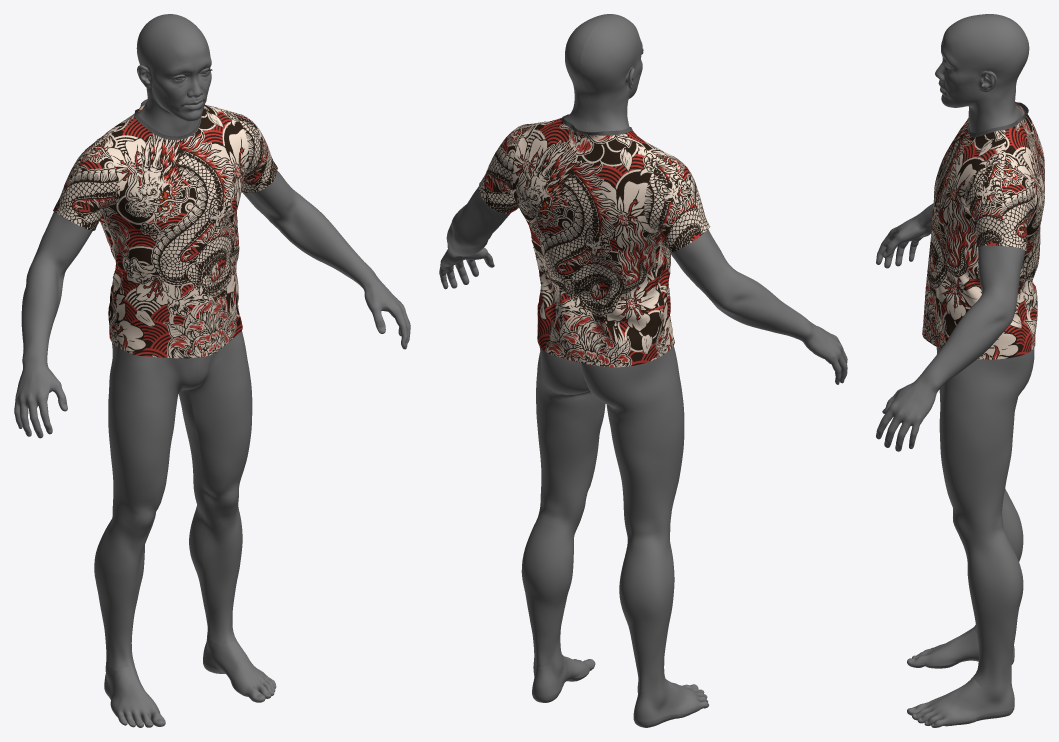
File: designer_shirt.glb
The picture shows the model from 3 angles, left to right: view 1: azimuth 30°, elevation 25°; view 2: azimuth 150°, elevation 25°; view 3: azimuth 270°, elevation 25°; orthographic projection. The views are drawn at different scales.
Parts seen in each view (by area): view 1: Obj_Avatar_Shape, TShirt; view 2: Obj_Avatar_Shape, TShirt; view 3: Obj_Avatar_Shape, TShirt.
Boxes of the visible parts, bbox=[...] form: Obj_Avatar_Shape: bbox=[14, 14, 410, 727]; TShirt: bbox=[53, 99, 277, 358]; Obj_Avatar_Shape: bbox=[439, 14, 847, 727]; TShirt: bbox=[478, 114, 710, 367]; Obj_Avatar_Shape: bbox=[876, 14, 1034, 727]; TShirt: bbox=[922, 101, 1044, 359].
Size of the model in its own units: 1.05 by 1.73 by 0.3923.
5 materials, 2 textured.
